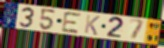2: (105, 16, 127, 40)
3: (18, 6, 36, 28)
5: (38, 7, 57, 32)
7: (129, 18, 145, 41)
E: (60, 11, 84, 35)
K: (83, 13, 101, 36)
